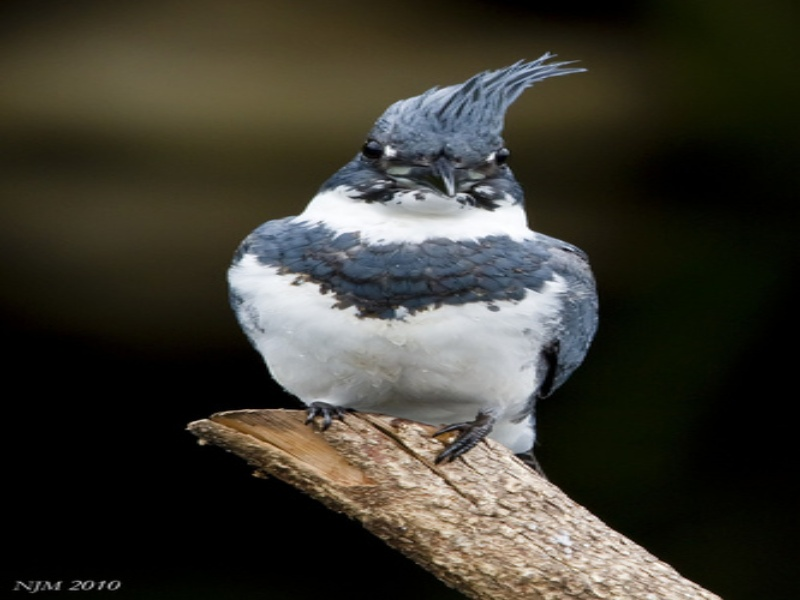kingfisher: (227, 43, 618, 456)
